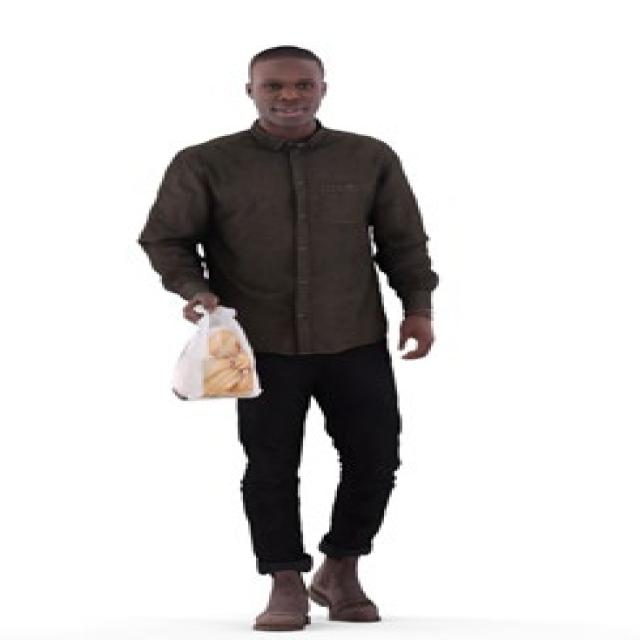standing: (131, 43, 442, 630)
